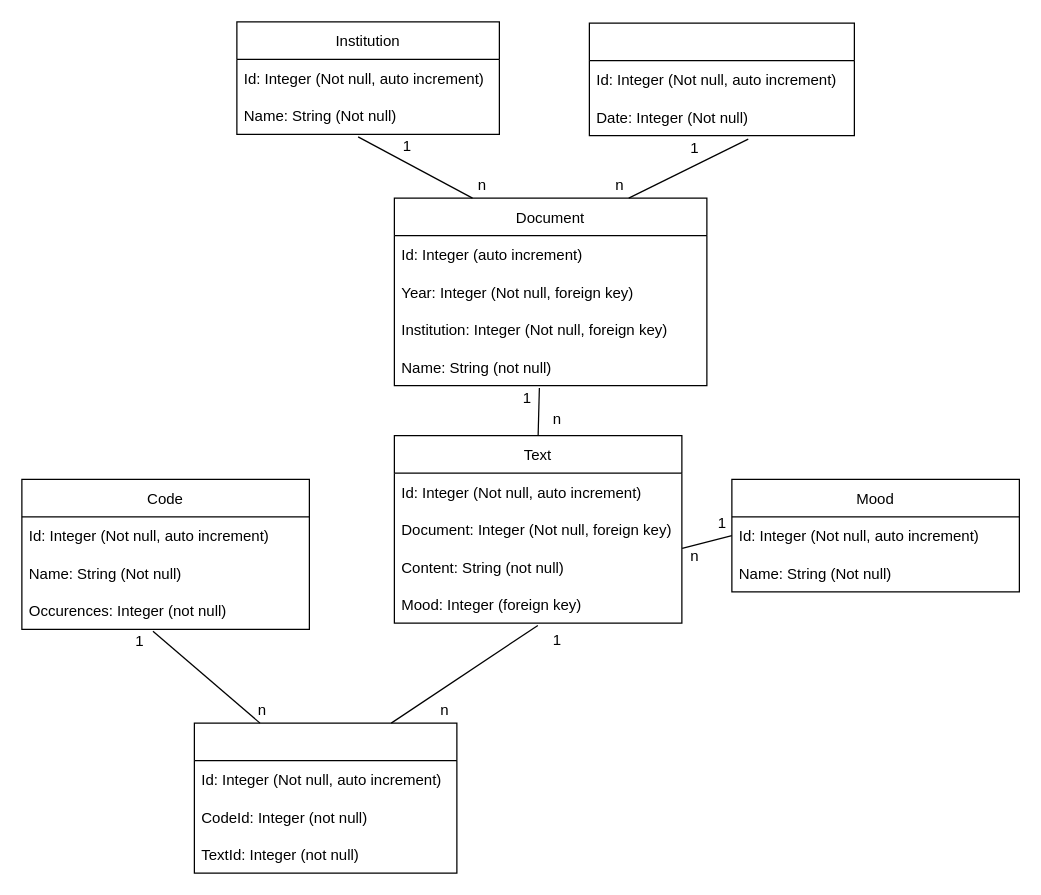
Image size: 1041x895. Some labels were removed from this diagram. Here are the shapes that lost their labels. From the top down, the box of each, then its label:
(588, 22, 854, 136): Year
(193, 722, 457, 873): CodeText
